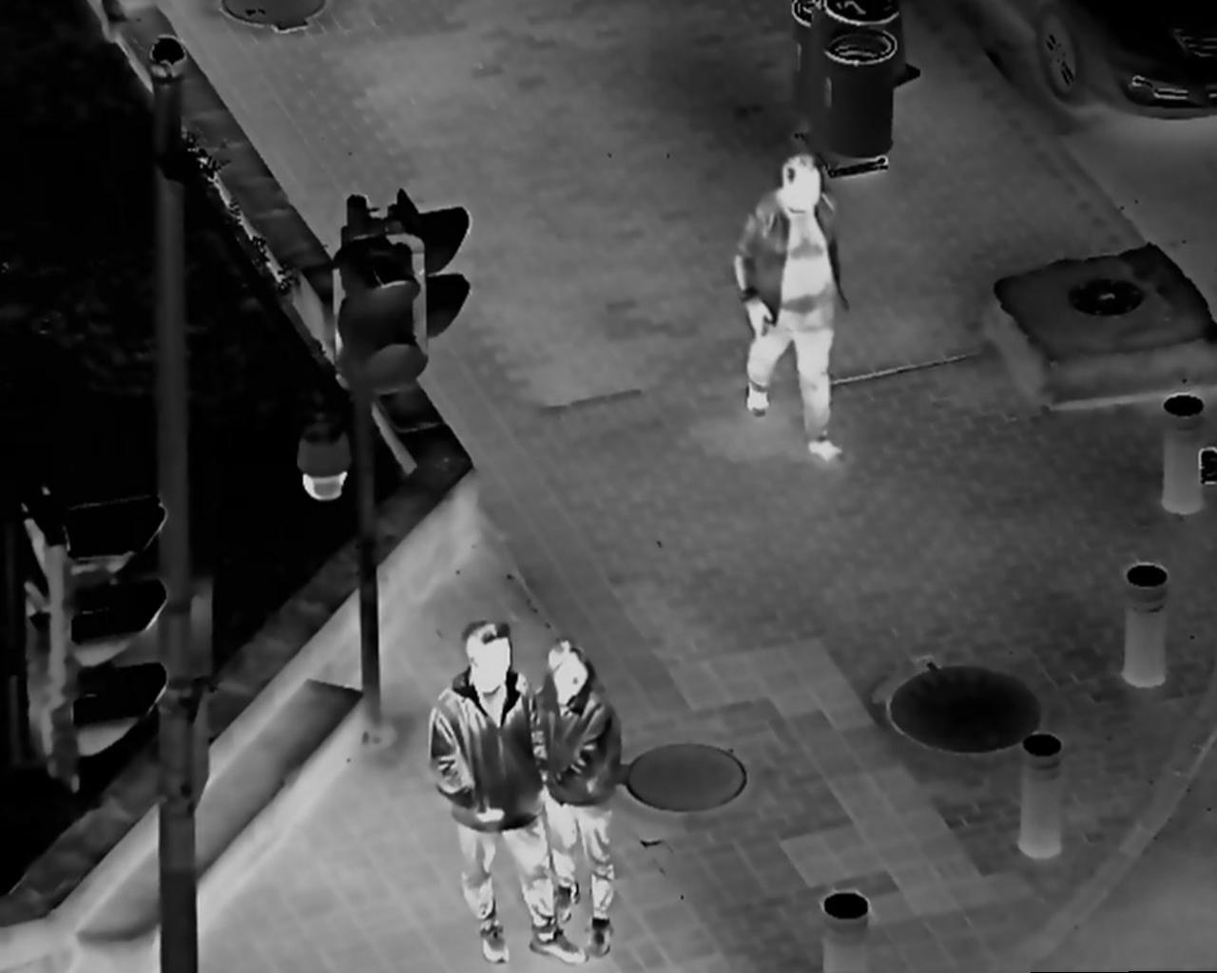person: (423, 615, 592, 963), (725, 147, 860, 468), (524, 626, 637, 963)
